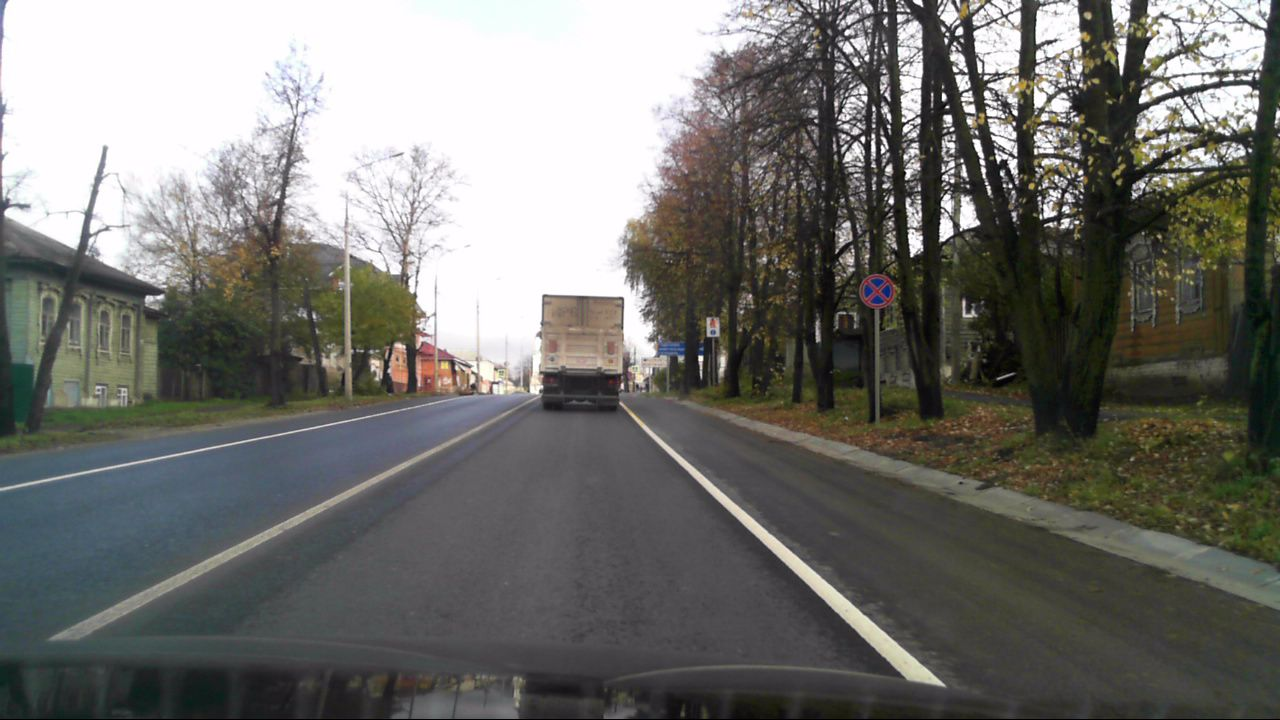No Parking: (860, 274, 895, 309)
